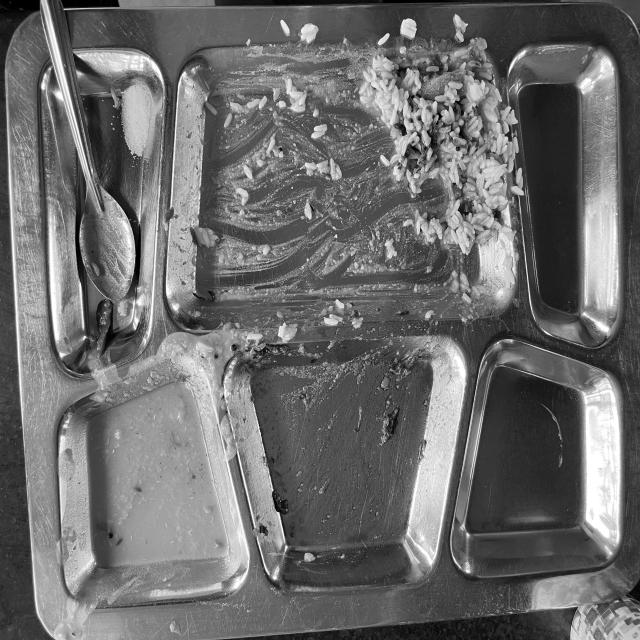20.4- Food Left: (32, 24, 608, 583)
